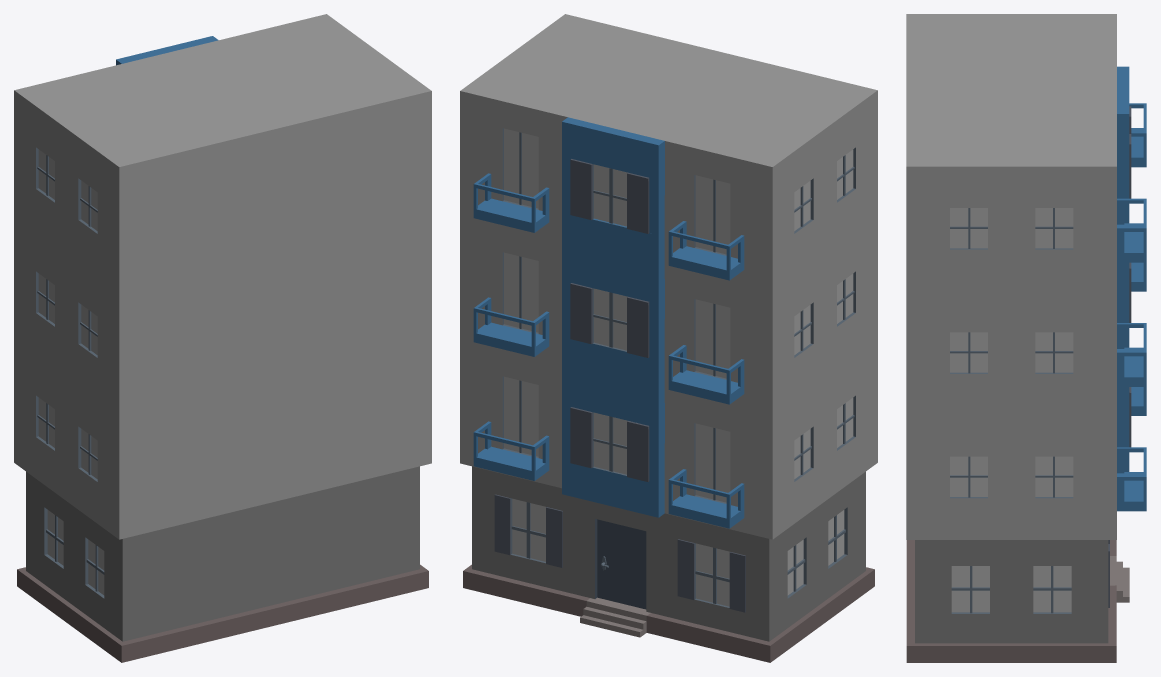
The model's file is 1-2 House.fbx.
The picture shows the model from 3 angles, left to right: view 1: azimuth 30°, elevation 25°; view 2: azimuth 150°, elevation 25°; view 3: azimuth 270°, elevation 25°; orthographic projection.
Visible parts, largest first — view 1: immeuble; view 2: immeuble; view 3: immeuble.
Boxes of the visible parts, x1,y1,x2,y2 form: immeuble: [14, 14, 431, 662]; immeuble: [460, 14, 877, 662]; immeuble: [906, 14, 1146, 662].
Size of the model in its own units: 4482 by 6804 by 2978.
